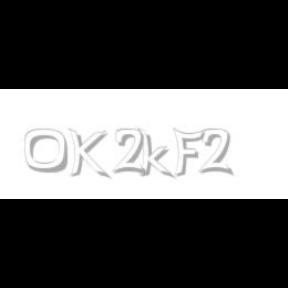2: (111, 128, 145, 176), (198, 128, 232, 176)
F: (172, 128, 204, 178)
K: (68, 128, 108, 180)
O: (24, 128, 70, 174)
k: (137, 128, 175, 180)
